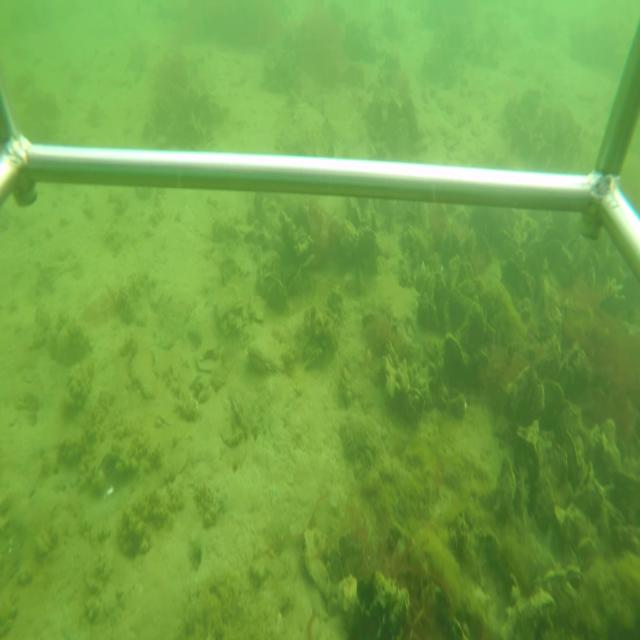Oyster-Closed: (301, 524, 338, 613), (245, 335, 306, 377), (443, 332, 468, 394), (561, 426, 582, 491), (563, 539, 586, 572)
